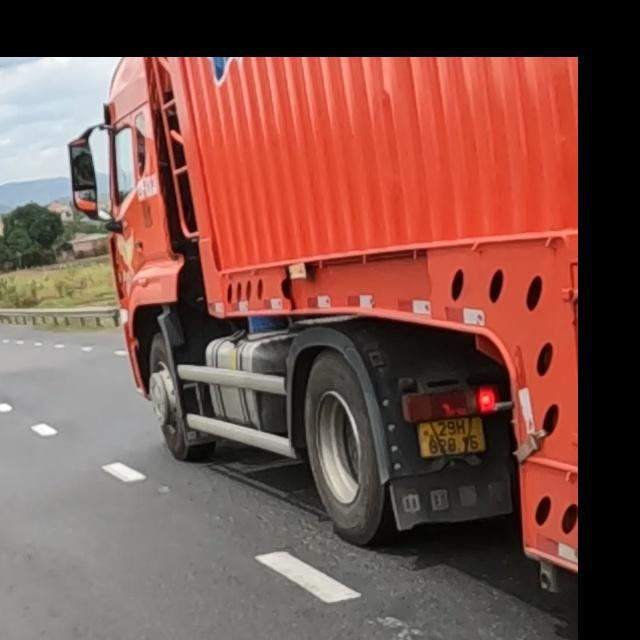license-plate: (417, 417, 487, 458)
